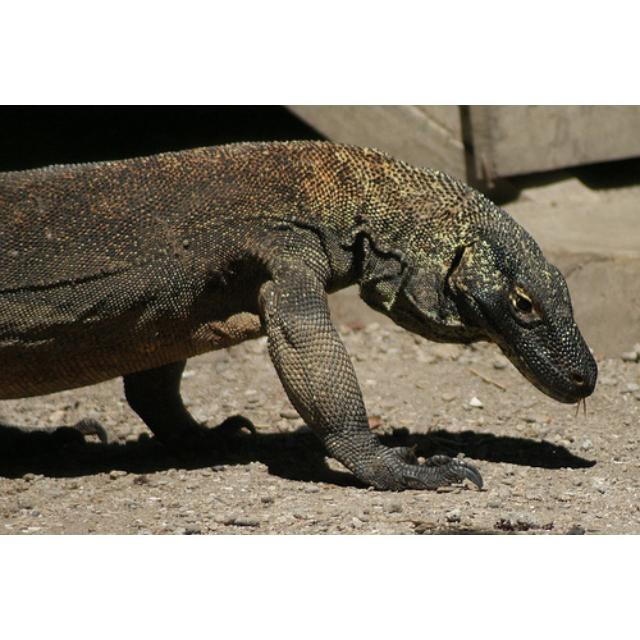KomodoDragon: (1, 138, 598, 495)
